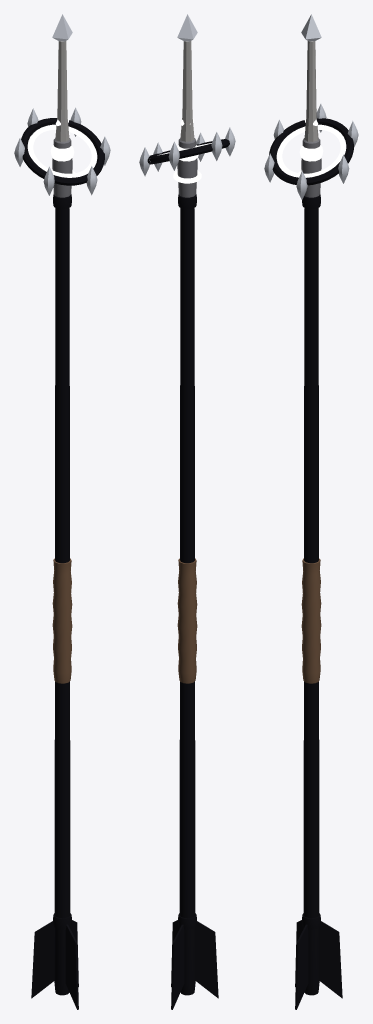
The model's file is esc_w_knight_javelin_7.glb.
3 views of the same model, side by side, from view 1: azimuth 30°, elevation 25°; view 2: azimuth 210°, elevation 25°; view 3: azimuth 330°, elevation 25° (orthographic).
Parts seen in each view (by area): view 1: esc_w_knight_javelin_7; view 2: esc_w_knight_javelin_7; view 3: esc_w_knight_javelin_7.
Boxes of the visible parts, x1,y1,x2,y2 form: esc_w_knight_javelin_7: (14,14,110,1009); esc_w_knight_javelin_7: (139,14,235,1009); esc_w_knight_javelin_7: (264,14,358,1009).
Bounding box in the file's own units: 0.1472 × 1.64 × 0.1341.
